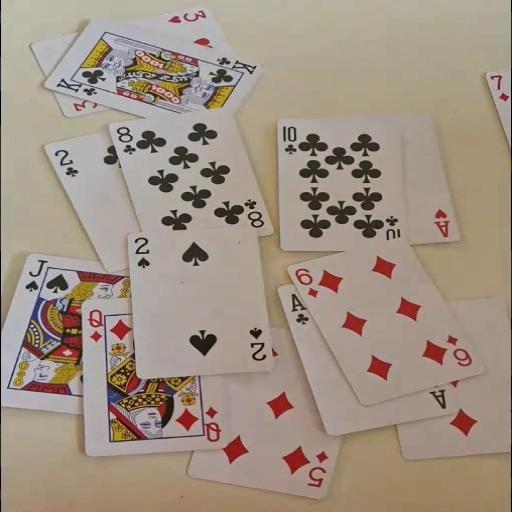10: (200, 405, 222, 443), (280, 124, 298, 155)
2: (51, 147, 80, 178), (246, 325, 268, 362), (131, 235, 152, 269)
3: (165, 8, 208, 24)
5: (304, 448, 331, 489)
6: (444, 332, 474, 368), (292, 266, 320, 298)
7: (488, 72, 510, 102)
8: (242, 196, 266, 228), (114, 124, 136, 155)
A: (432, 207, 452, 238)
J: (21, 258, 49, 292)
K: (52, 75, 102, 97), (213, 55, 259, 75)
Q: (85, 307, 104, 343)
